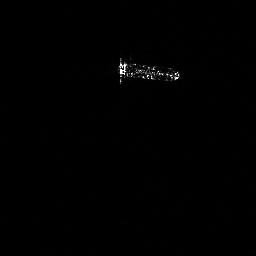ship: (114, 54, 182, 88)
